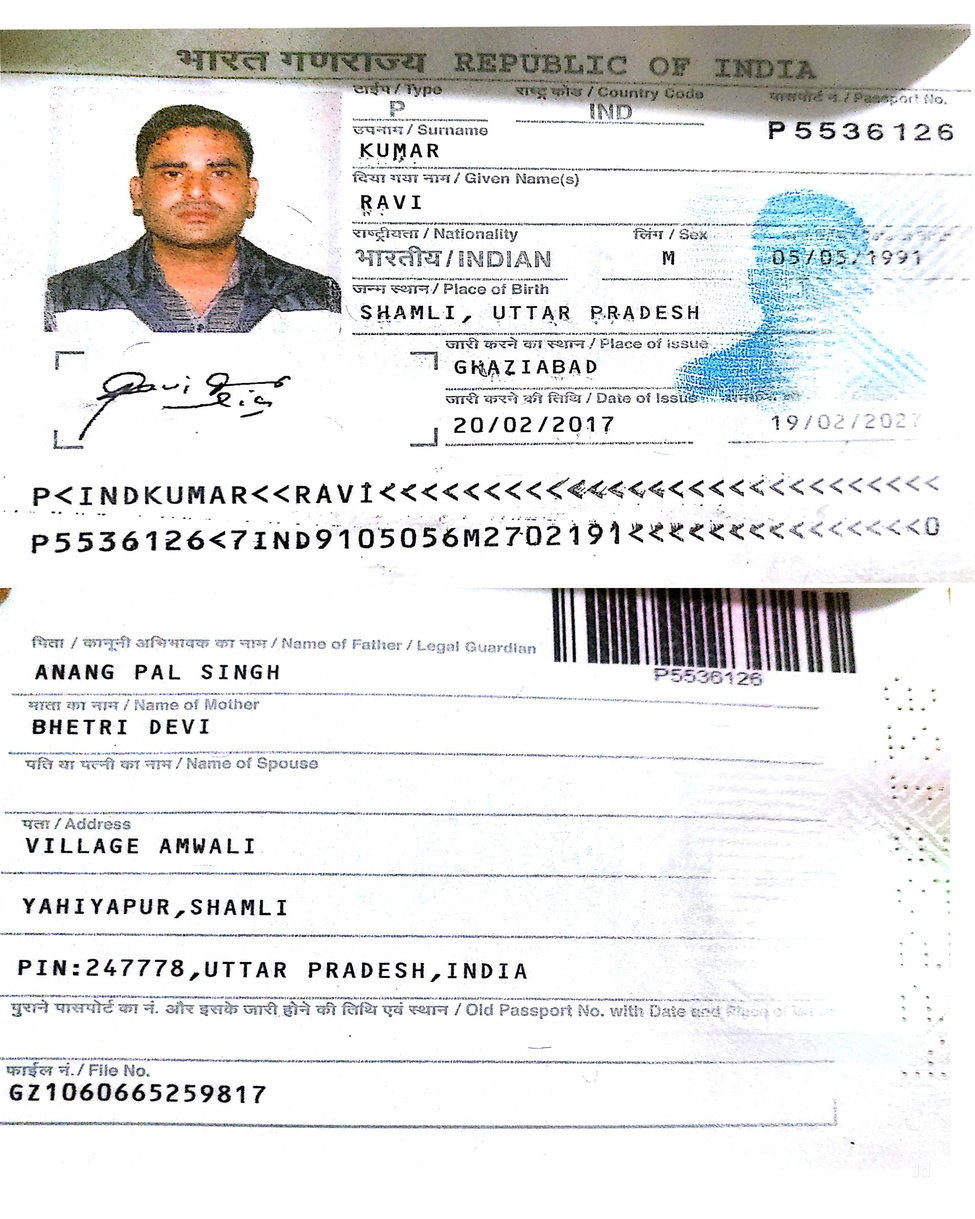DOB: (766, 241, 926, 274)
File_no: (5, 1081, 291, 1113)
Surname: (353, 137, 454, 164)
address: (17, 829, 538, 990)
country_code: (581, 98, 645, 129)
date_of_expiry: (764, 410, 933, 438)
date_of_issue: (450, 408, 629, 442)
details: (20, 471, 947, 553)
father_name: (26, 655, 286, 694)
mother_name: (26, 714, 214, 741)
name: (352, 189, 435, 218)
nationality: (351, 241, 561, 272)
passport_no: (759, 116, 960, 148), (649, 662, 771, 693)
photo: (56, 86, 338, 332)
place_of_birth: (358, 298, 704, 326)
place_of_issue: (447, 349, 606, 386)
sex: (650, 244, 692, 274)
sign: (77, 358, 305, 439)
type: (380, 94, 414, 126)
